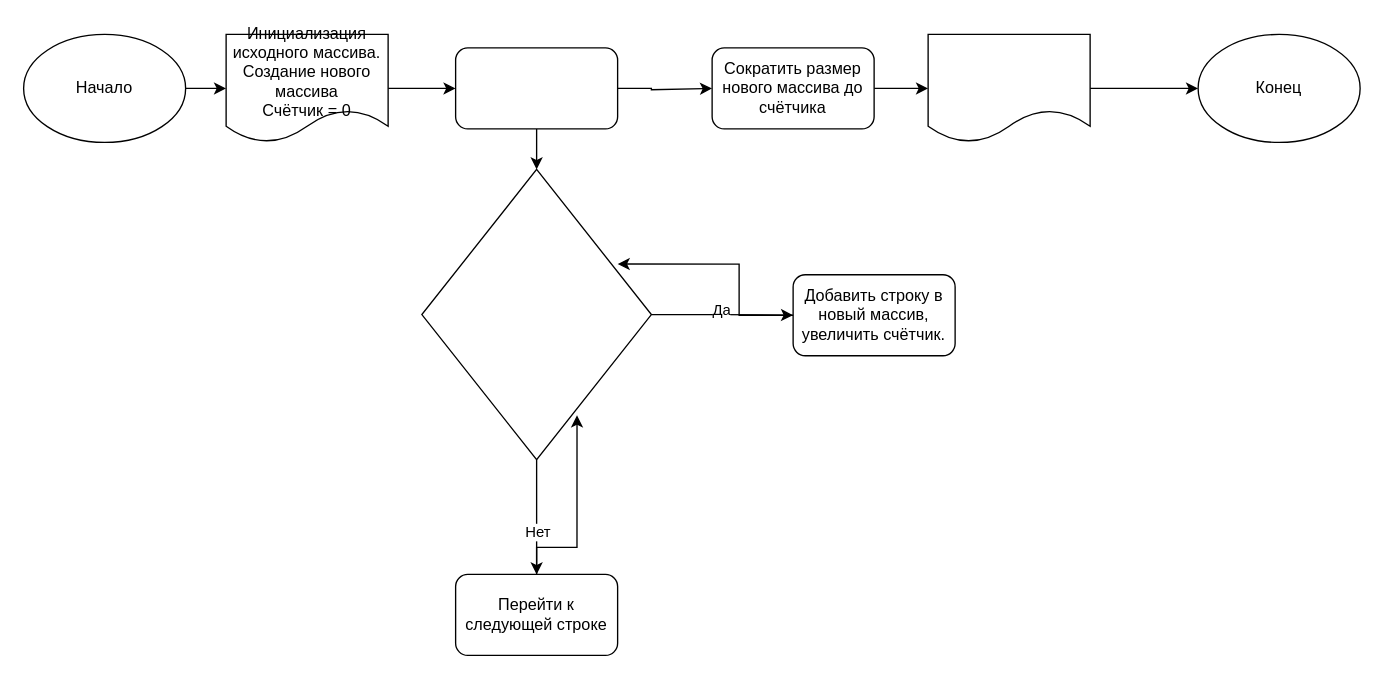
This 1384x679 diagram has some shape labels left out. Each missing label, with the box of its shape:
Вывести новый массив: (927, 33, 1090, 142)
Условие : длина строки ≤ 3: (421, 168, 651, 460)
Цикл по элементам исходного массива: (454, 47, 618, 129)
